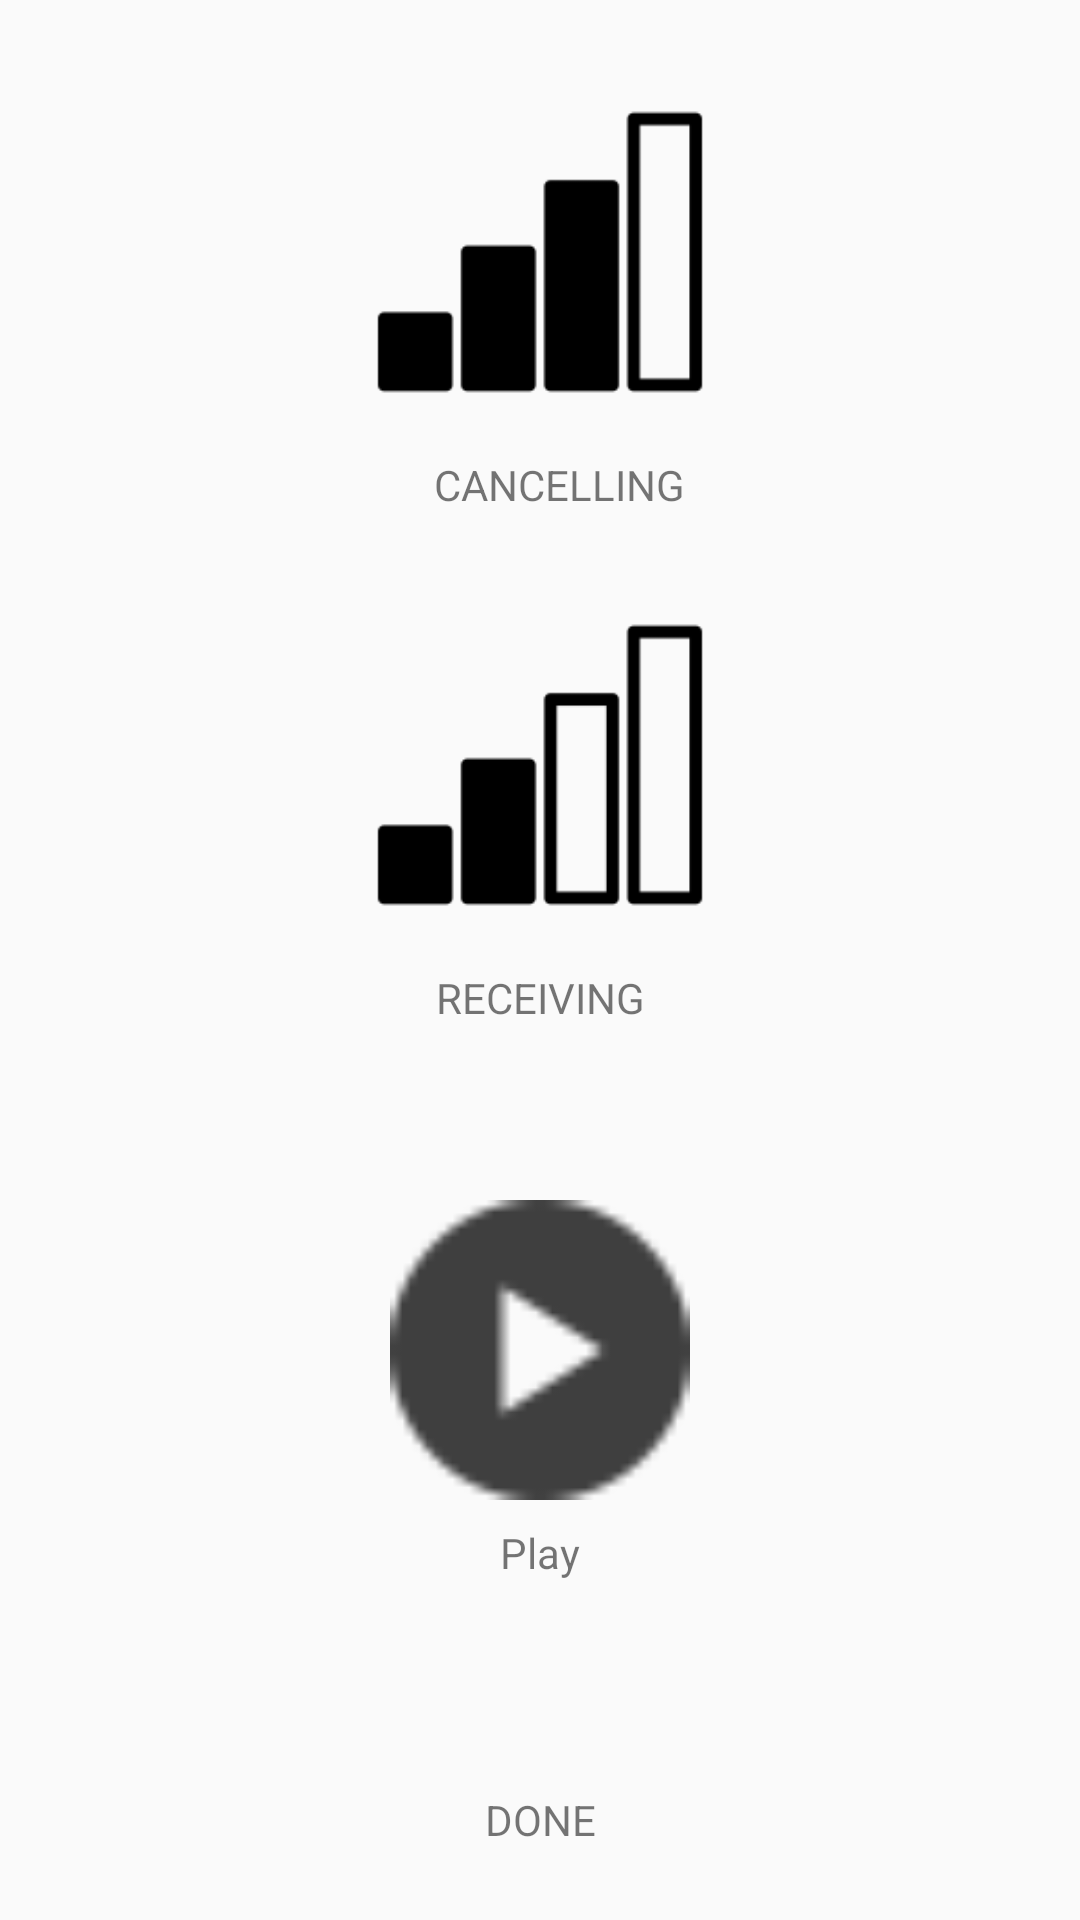

Icons on this 1080w x 1920h Android screen, each with its box as {"x1": x1, "y1": y1, "x2": x2, "y2": y2}:
processing toggle: {"x1": 390, "y1": 1200, "x2": 690, "y2": 1500}
signalbar: {"x1": 377, "y1": 111, "x2": 703, "y2": 393}, {"x1": 377, "y1": 624, "x2": 703, "y2": 906}
